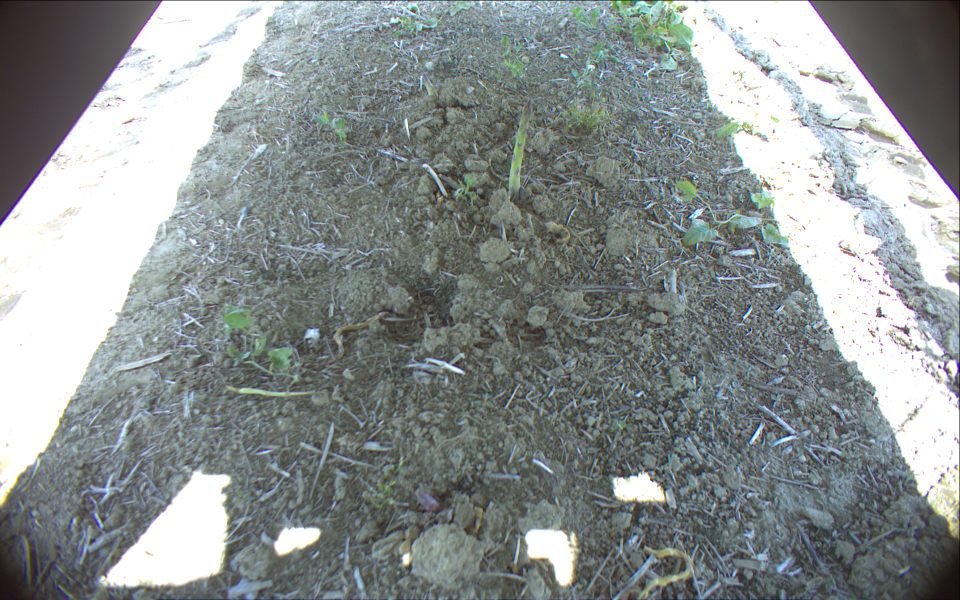aspa: (507, 101, 536, 201), (231, 385, 320, 398)
